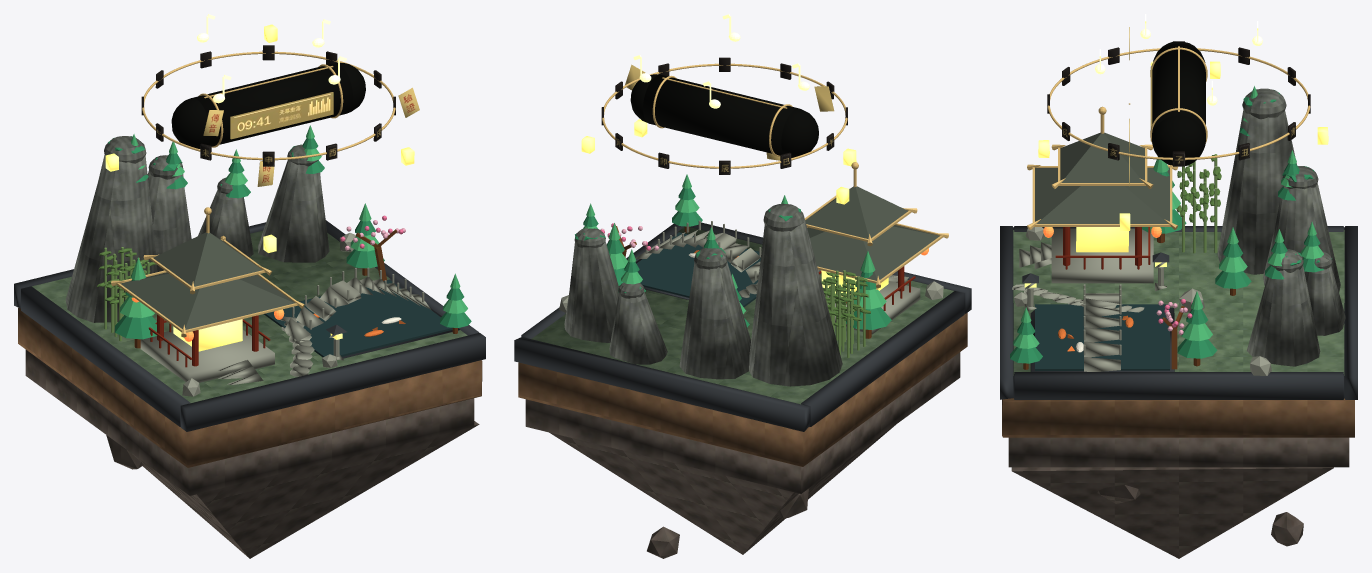
The model's file is tianmu.glb.
3 views of the same model, side by side, from view 1: azimuth 30°, elevation 25°; view 2: azimuth 150°, elevation 25°; view 3: azimuth 270°, elevation 25° (orthographic). The views are drawn at different scales.
Parts seen in each view (by area): view 1: island_rock, island_karst, island_soil, island_stone_dark, island_moss, island_stone, capsule_lacquer, island_water, island_roof, island_leaf_dark, fx_roof1_roof, capsule_display (+9 smaller); view 2: island_karst, island_rock, island_soil, island_stone_dark, capsule_lacquer, island_moss, island_roof, island_stone, fx_roof1_roof, island_water, island_leaf_dark, island_leaf (+6 smaller); view 3: island_rock, island_karst, island_stone_dark, island_moss, island_soil, island_stone, island_water, island_roof, capsule_lacquer, island_leaf_dark, fx_roof1_roof, island_leaf (+9 smaller).
Part boxes in pixels (x1=…): island_rock: x1=25, y1=349, x2=479, y2=558; island_karst: x1=65, y1=136, x2=329, y2=322; island_soil: x1=18, y1=307, x2=482, y2=467; island_stone_dark: x1=14, y1=220, x2=485, y2=431; island_moss: x1=32, y1=230, x2=467, y2=403; island_stone: x1=140, y1=233, x2=431, y2=396; capsule_lacquer: x1=171, y1=63, x2=365, y2=148; island_water: x1=264, y1=280, x2=452, y2=357; island_roof: x1=120, y1=272, x2=295, y2=329; island_leaf_dark: x1=108, y1=136, x2=471, y2=339; fx_roof1_roof: x1=153, y1=232, x2=262, y2=286; capsule_display: x1=230, y1=92, x2=333, y2=139; island_karst: x1=564, y1=203, x2=842, y2=386; island_rock: x1=525, y1=352, x2=960, y2=558; island_soil: x1=518, y1=313, x2=967, y2=466; island_stone_dark: x1=514, y1=222, x2=971, y2=431; capsule_lacquer: x1=630, y1=74, x2=818, y2=157; island_moss: x1=531, y1=227, x2=953, y2=404; island_roof: x1=807, y1=225, x2=939, y2=280; island_stone: x1=559, y1=220, x2=943, y2=334; fx_roof1_roof: x1=805, y1=186, x2=907, y2=238; island_water: x1=636, y1=232, x2=760, y2=307; island_leaf_dark: x1=575, y1=188, x2=891, y2=329; island_leaf: x1=583, y1=174, x2=886, y2=313; island_rock: x1=1008, y1=437, x2=1349, y2=558; island_karst: x1=1217, y1=88, x2=1345, y2=366; island_stone_dark: x1=1000, y1=226, x2=1357, y2=399; island_moss: x1=1013, y1=230, x2=1344, y2=375; island_soil: x1=1002, y1=398, x2=1354, y2=437; island_stone: x1=1012, y1=227, x2=1271, y2=375; island_water: x1=1035, y1=304, x2=1169, y2=370; island_roof: x1=1035, y1=168, x2=1169, y2=223; capsule_lacquer: x1=1152, y1=41, x2=1205, y2=165; island_leaf_dark: x1=1010, y1=89, x2=1331, y2=363; fx_roof1_roof: x1=1060, y1=132, x2=1144, y2=182; island_leaf: x1=1013, y1=86, x2=1323, y2=348.
Bounding box in the file's own units: 4 × 6.58 × 3.98.
Materials: 24 (24 with a texture image).
